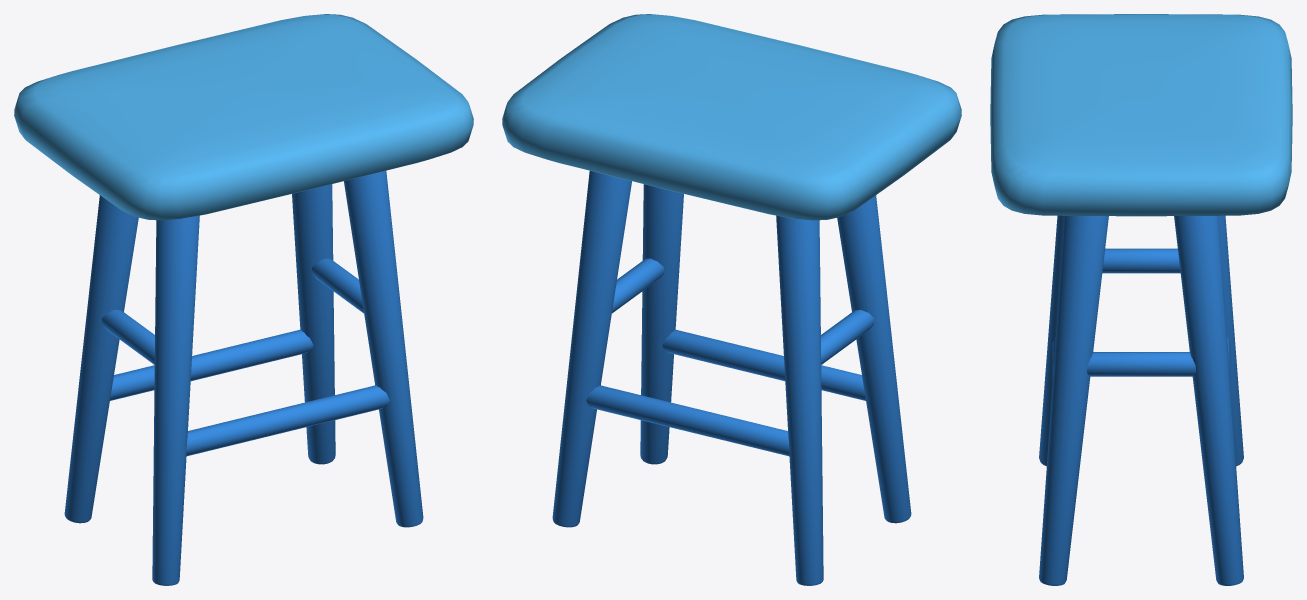
The model's file is criado_banqueta_azul.glb.
The picture shows the model from 3 angles, left to right: view 1: azimuth 30°, elevation 25°; view 2: azimuth 150°, elevation 25°; view 3: azimuth 270°, elevation 25°; orthographic projection.
Parts seen in each view (by area): view 1: criado_banqueta_azul; view 2: criado_banqueta_azul; view 3: criado_banqueta_azul.
Part boxes in pixels (box(x1,y1,x2,y2)): criado_banqueta_azul: box(14, 14, 473, 585); criado_banqueta_azul: box(502, 14, 961, 585); criado_banqueta_azul: box(990, 14, 1292, 585).
Size of the model in its own units: 0.46 by 0.5414 by 0.34.
Materials: 1 (1 with a texture image).
